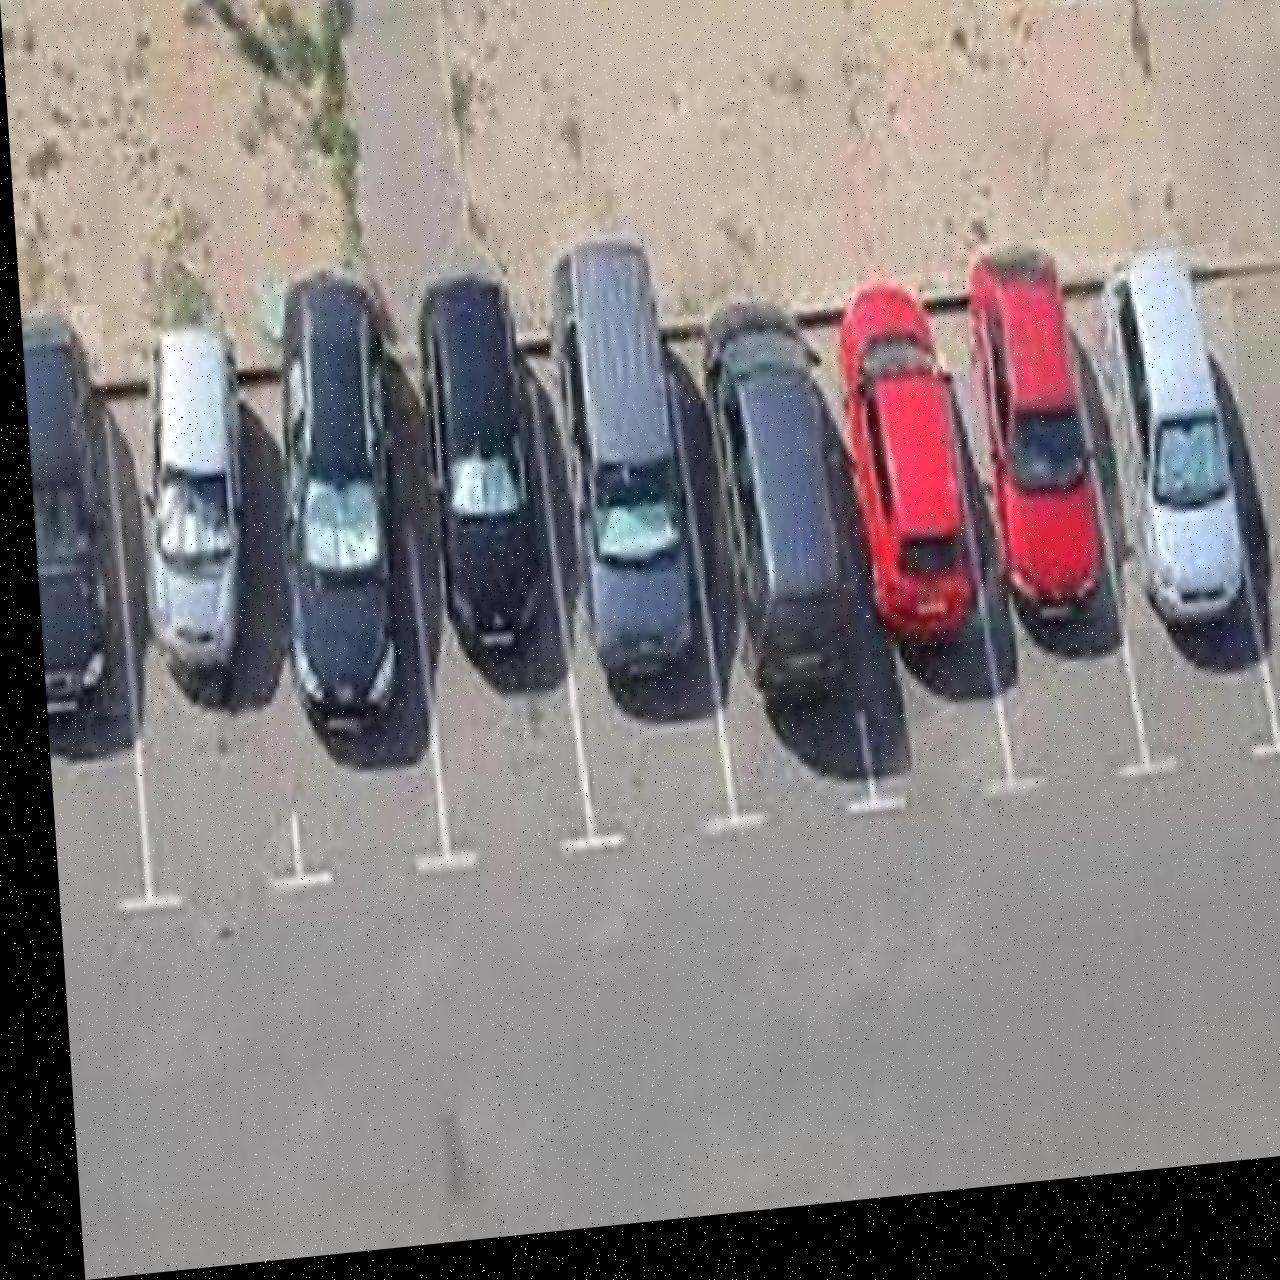car: (539, 243, 697, 701), (260, 270, 408, 740), (694, 307, 863, 715), (1094, 267, 1242, 654), (828, 290, 976, 670), (958, 257, 1102, 649), (410, 277, 543, 668), (124, 325, 254, 715), (19, 306, 118, 722), (971, 0, 1230, 35)
